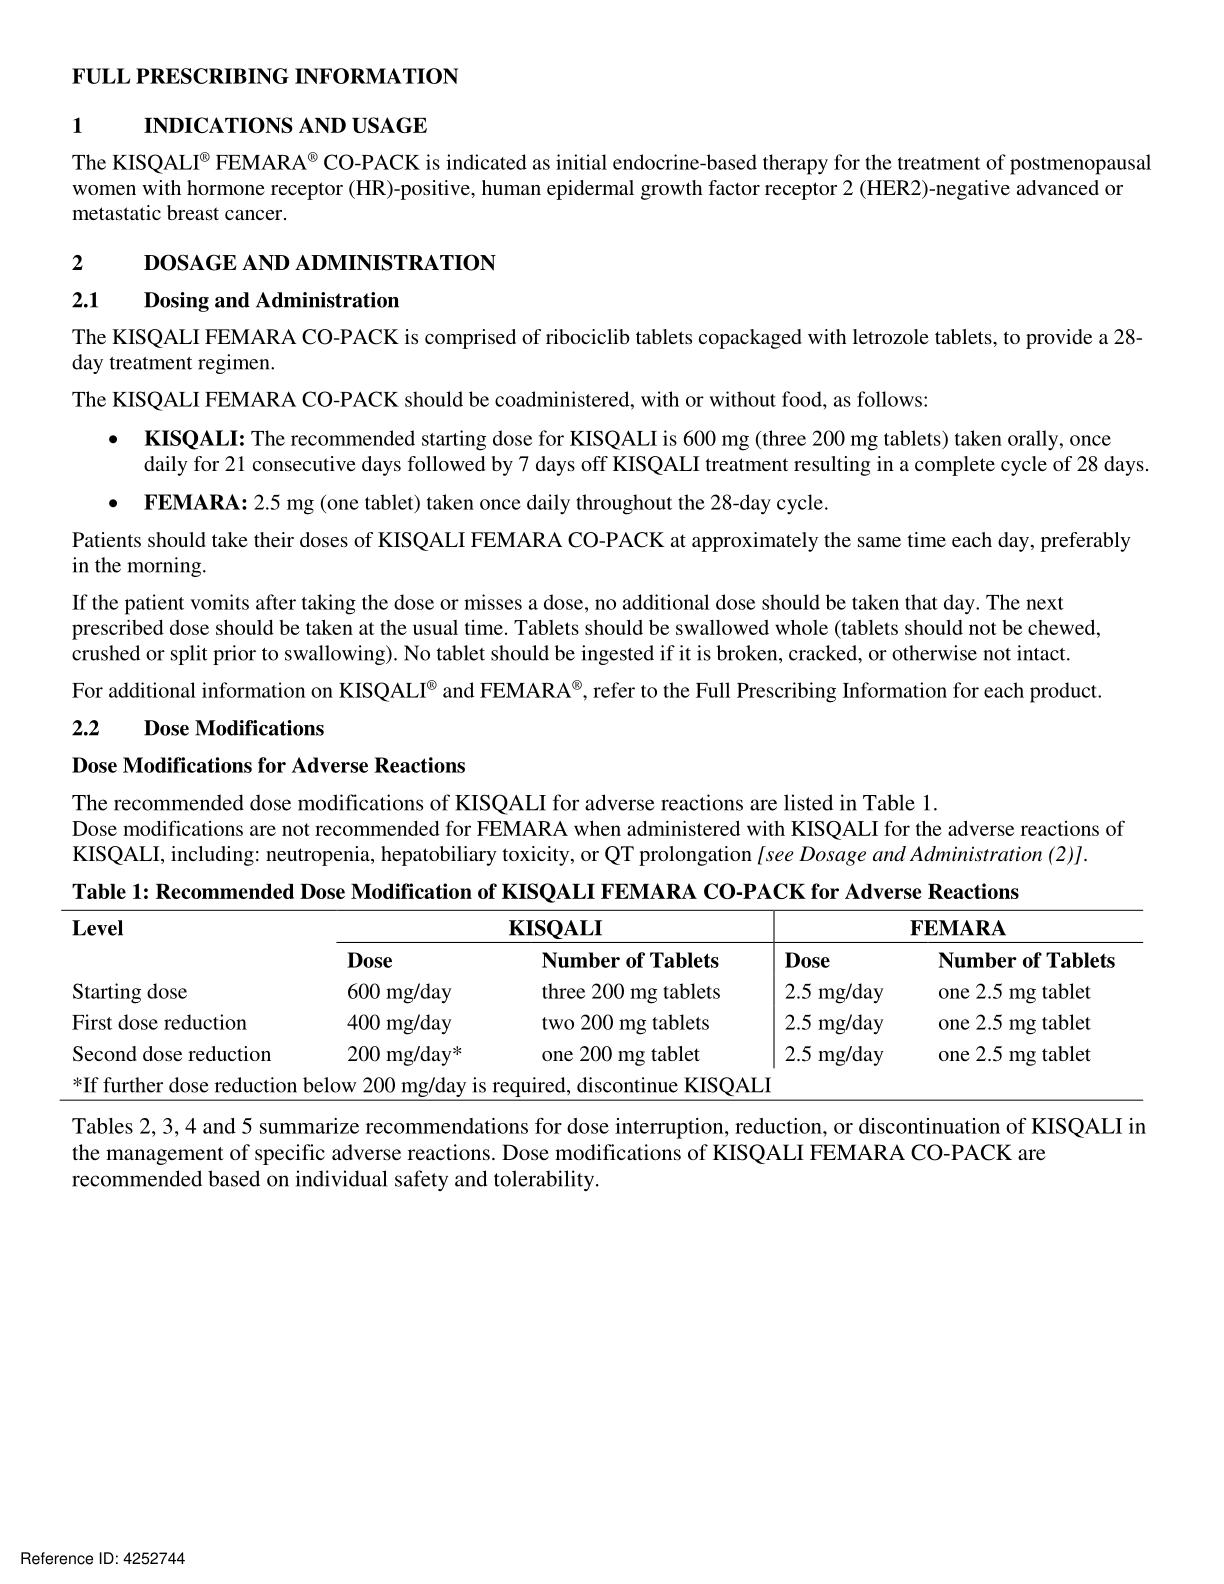partial_lined_merged_cells: (60, 906, 1146, 1102)
